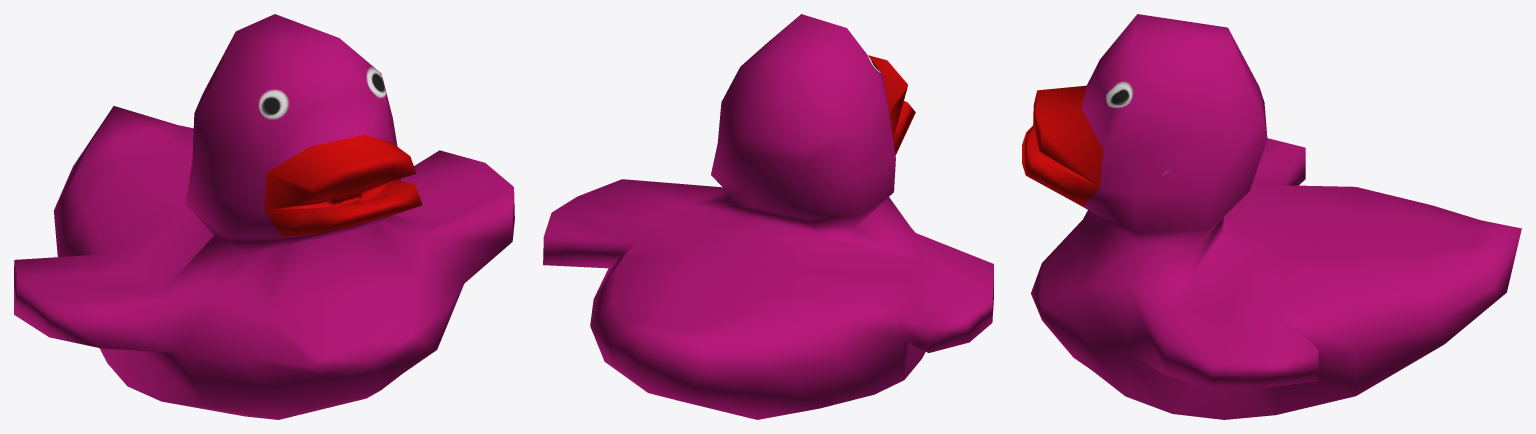
The model's file is purple.fbx.
3 views of the same model, side by side, from view 1: azimuth 30°, elevation 25°; view 2: azimuth 150°, elevation 25°; view 3: azimuth 270°, elevation 25° (orthographic). The views are drawn at different scales.
Visible parts, largest first — view 1: pSphere2; view 2: pSphere2; view 3: pSphere2.
Part boxes in pixels (x1,y1,x2,y2): pSphere2: [14, 14, 514, 419]; pSphere2: [543, 14, 993, 419]; pSphere2: [1022, 14, 1521, 419].
Bounding box in the file's own units: 82.97 × 63.43 × 79.4.
